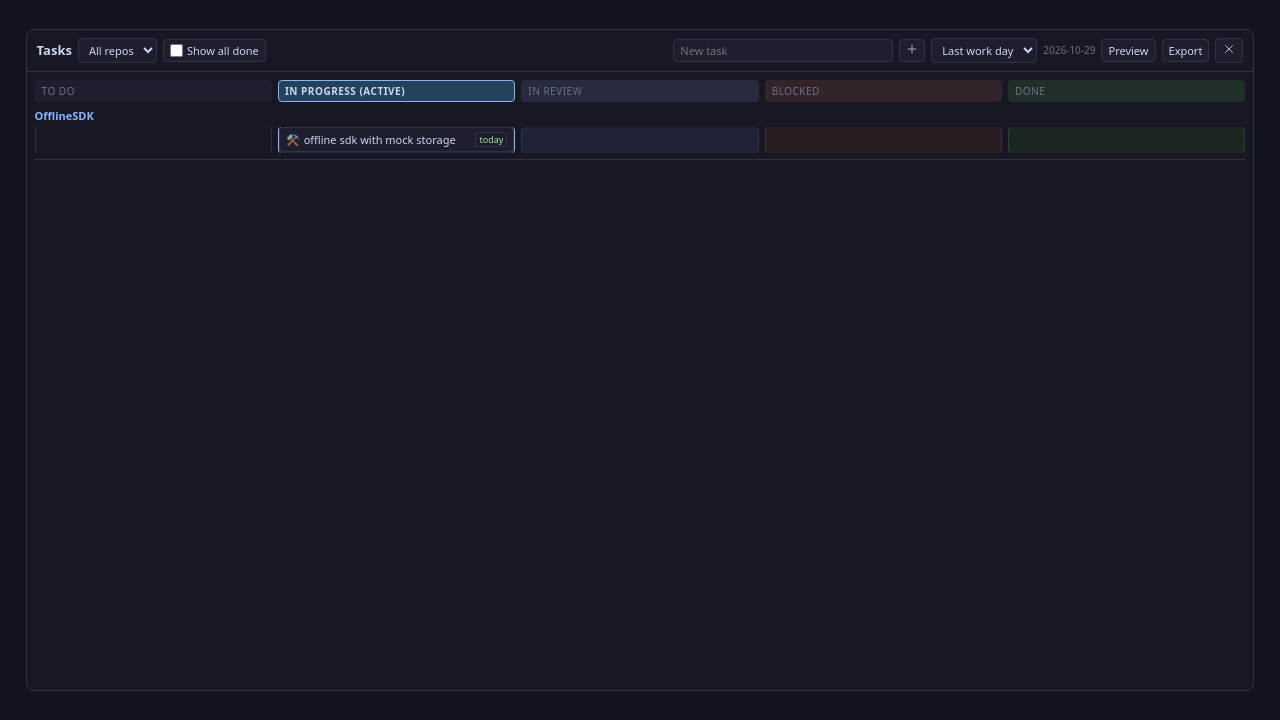
Test: devlog export › surfaces the warning when it had to write alongside a hand-written page
This screenshot has width=1280, height=720.
Expected: the text "offline sdk with mock storage" is shown, [304,132,472,147]
Click the button with test id "devlog-export". click: (1185, 50)
box: [1162,39,1209,62]
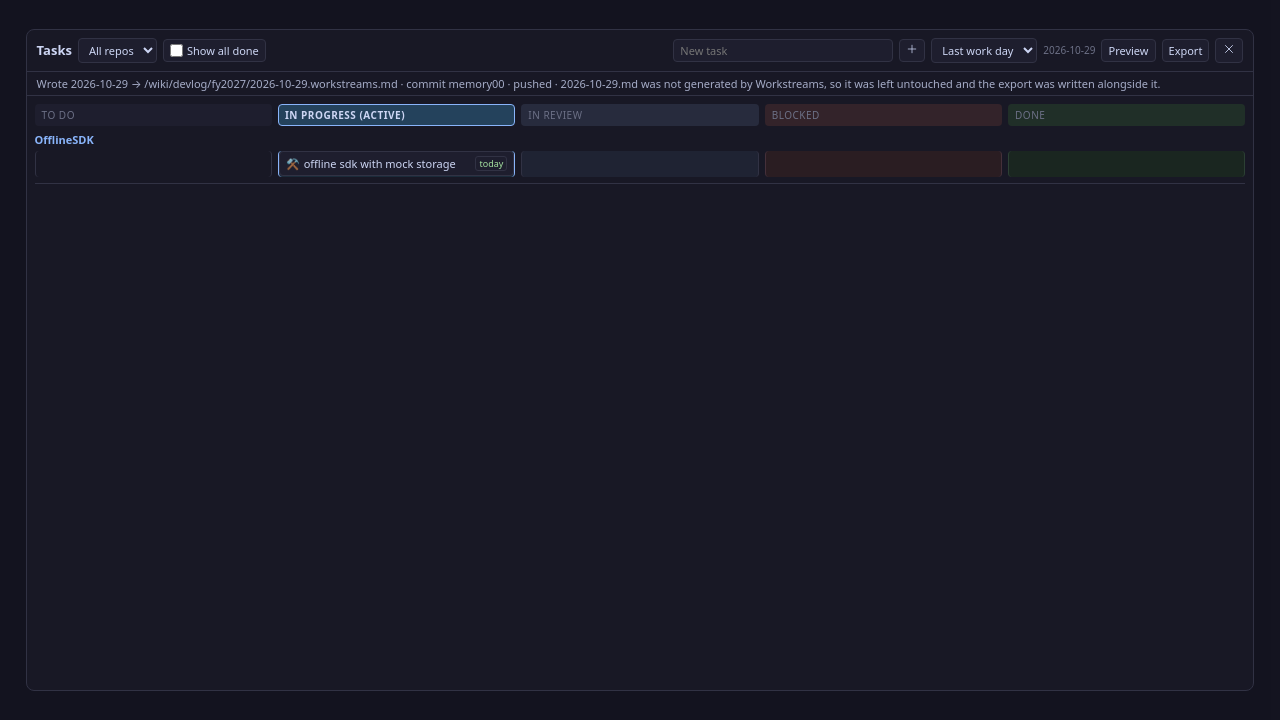
Expected: the text with test id "devlog-status" shows "not generated by Workstreams", [37,76,1160,91]
